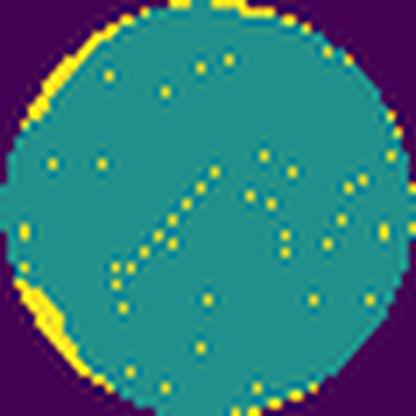Edge-Loc: (15, 7, 133, 138), (14, 278, 123, 393)
